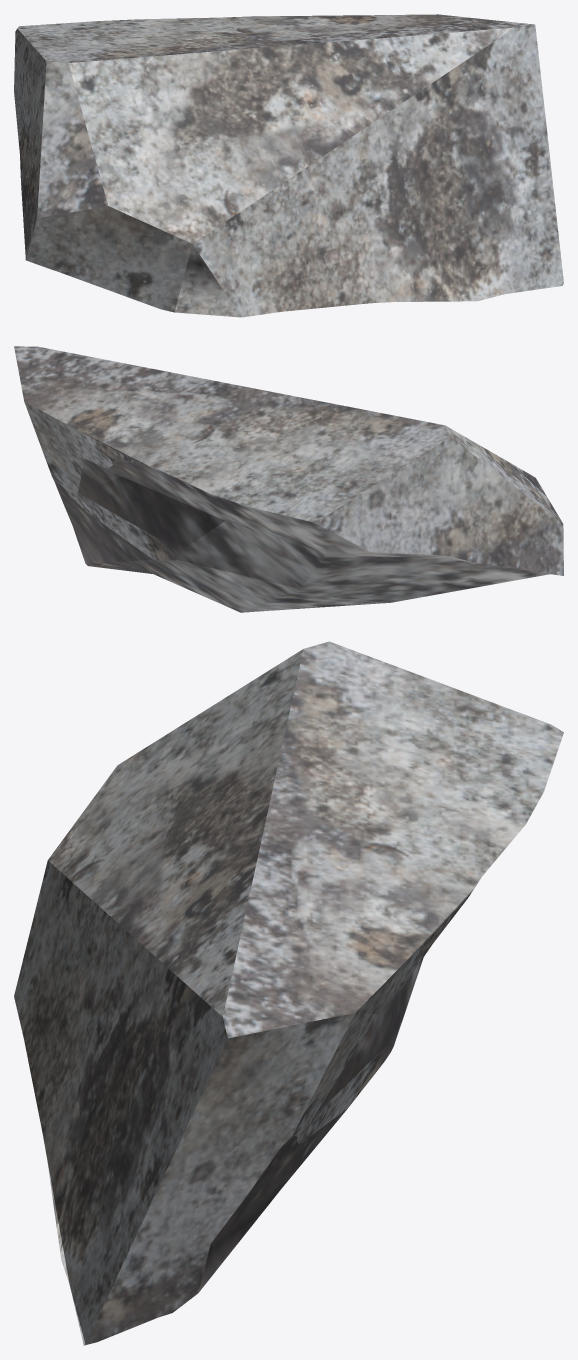
The model's file is Asteroid_Large_001_02_008_03_005.fbx.
The picture shows the model from 3 angles, top to bottom: view 1: azimuth 30°, elevation 25°; view 2: azimuth 150°, elevation 25°; view 3: azimuth 270°, elevation 25°; orthographic projection. The views are drawn at different scales.
Parts seen in each view (by area): view 1: Asteroid_Large_001_02_008_03_005; view 2: Asteroid_Large_001_02_008_03_005; view 3: Asteroid_Large_001_02_008_03_005.
Part boxes in pixels (box(x1,y1,x2,y2)): Asteroid_Large_001_02_008_03_005: box(14, 14, 563, 317); Asteroid_Large_001_02_008_03_005: box(14, 346, 563, 612); Asteroid_Large_001_02_008_03_005: box(14, 641, 563, 1345).
Bounding box in the file's own units: 14.04 × 6.98 × 8.77.
